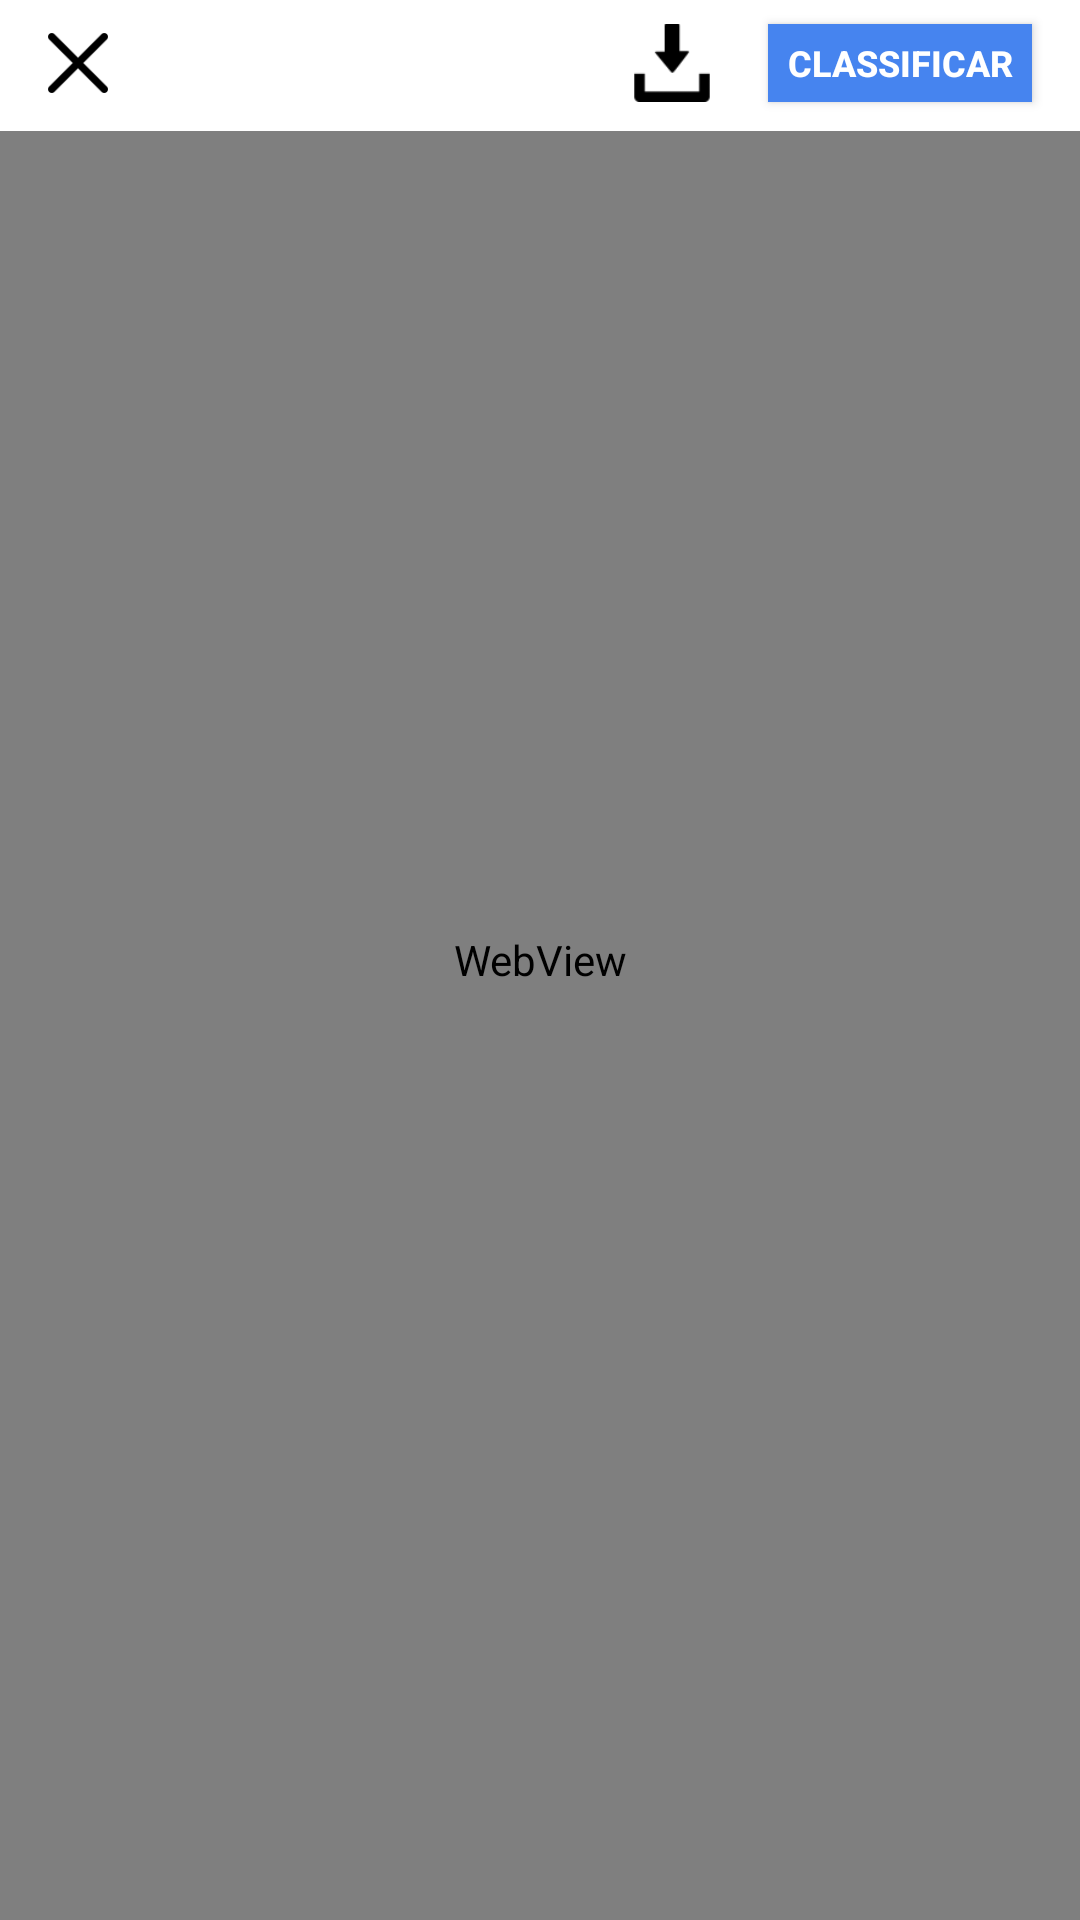

Where icons sit on this 1080 x 1920 app screen, as (x1, y1, x2, y2):
close: (48, 33, 108, 93)
donwload: (634, 24, 710, 102)
